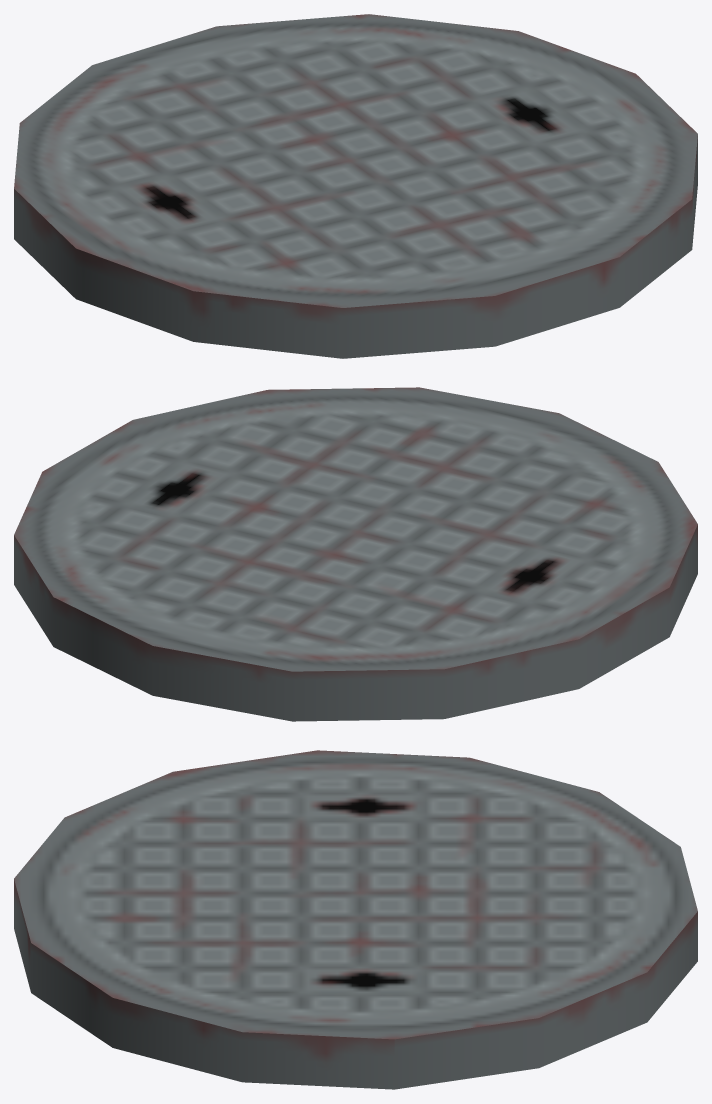
Rendered from Sewer1_LOD1.fbx.
3 views of the same model, one above another, from view 1: azimuth 30°, elevation 25°; view 2: azimuth 150°, elevation 25°; view 3: azimuth 270°, elevation 25° (orthographic).
Parts seen in each view (by area): view 1: pCylinder8; view 2: pCylinder8; view 3: pCylinder8.
Part boxes in pixels (left/top/right/bottom): pCylinder8: left=14, top=14, right=697, bottom=358; pCylinder8: left=14, top=387, right=697, bottom=721; pCylinder8: left=14, top=750, right=697, bottom=1089.
Size of the model in its own units: 111 by 8.98 by 111.
